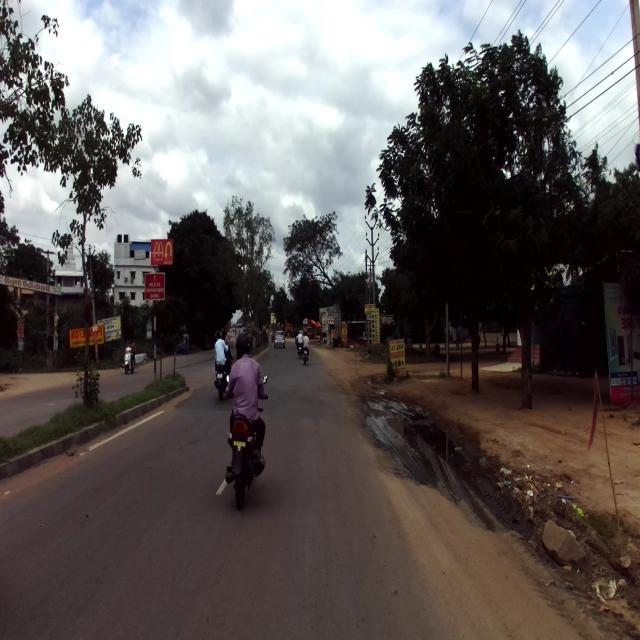pothole: (359, 388, 403, 464)
